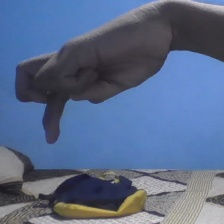P: (12, 1, 174, 147)
